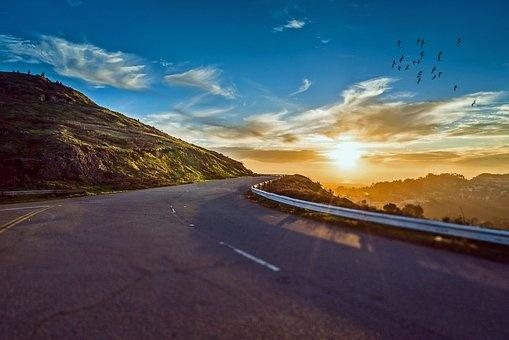road: (0, 177, 508, 338)
